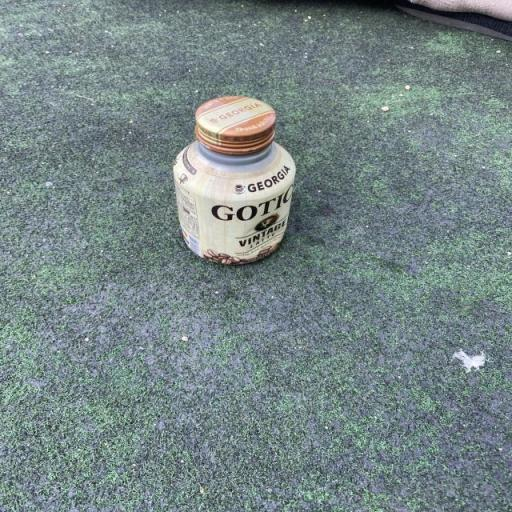metal: (165, 86, 332, 282)
